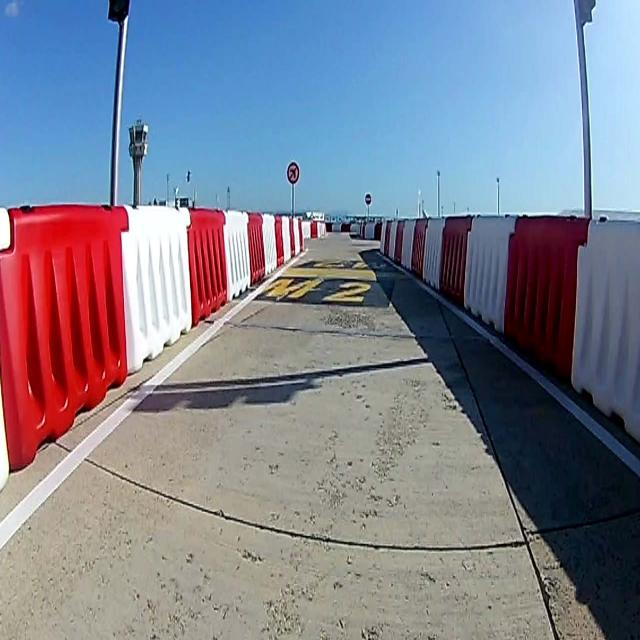soladonulmez: (286, 161, 300, 183)
